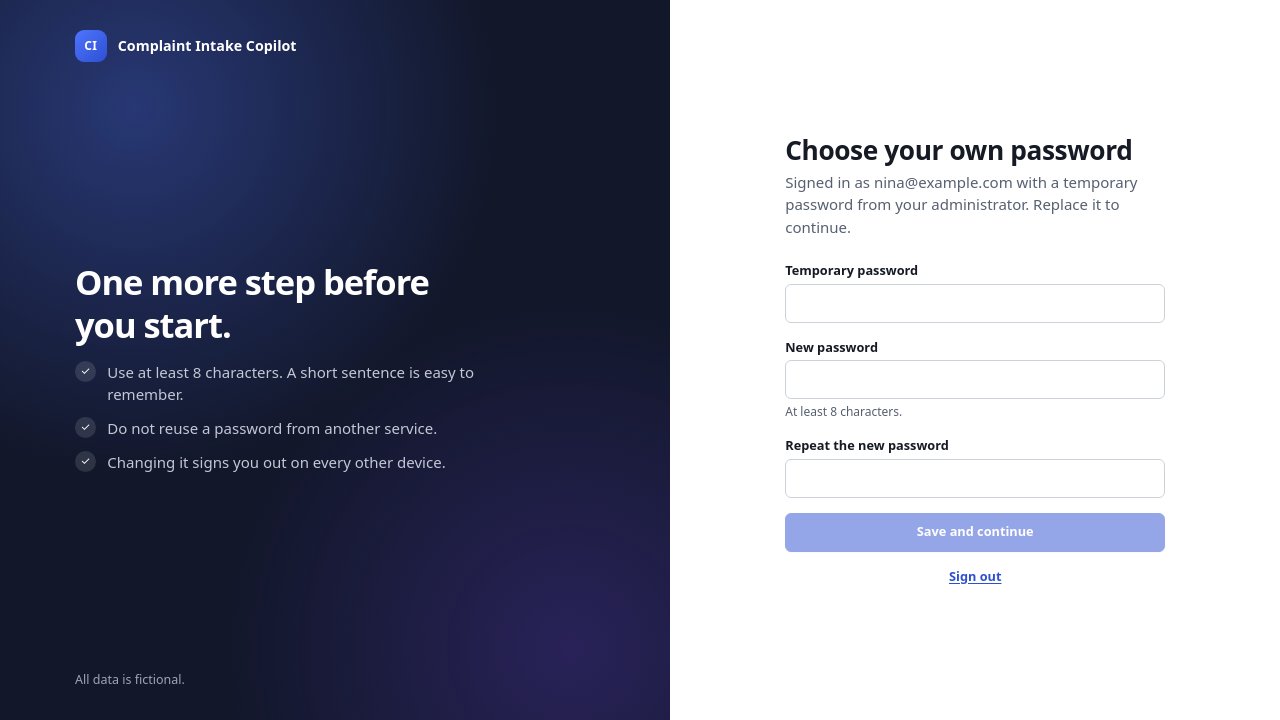
Test case: a temporary password › only saves a long enough, repeated, different password
In the password field labelled "Temporary password": point(975, 303) [785,284,1165,323], type "temporary password 1"
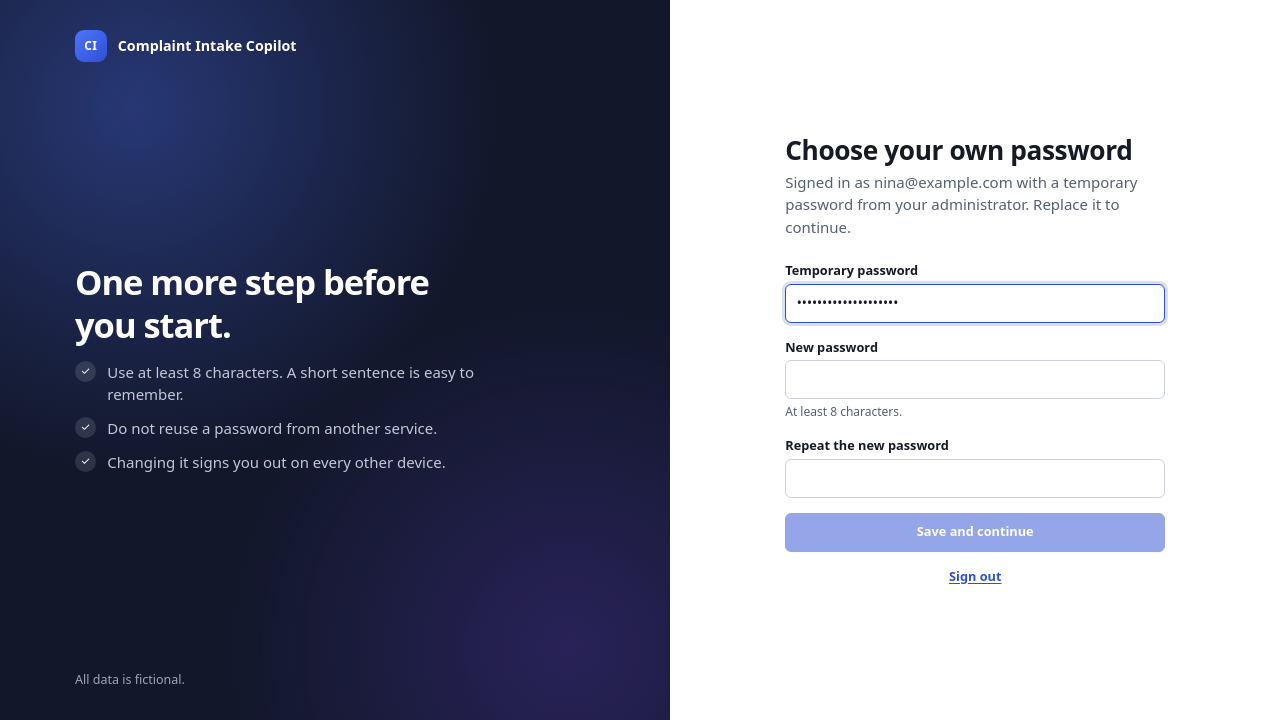
In the password field labelled "New password": point(975, 380) [785,360,1165,399], type "short"
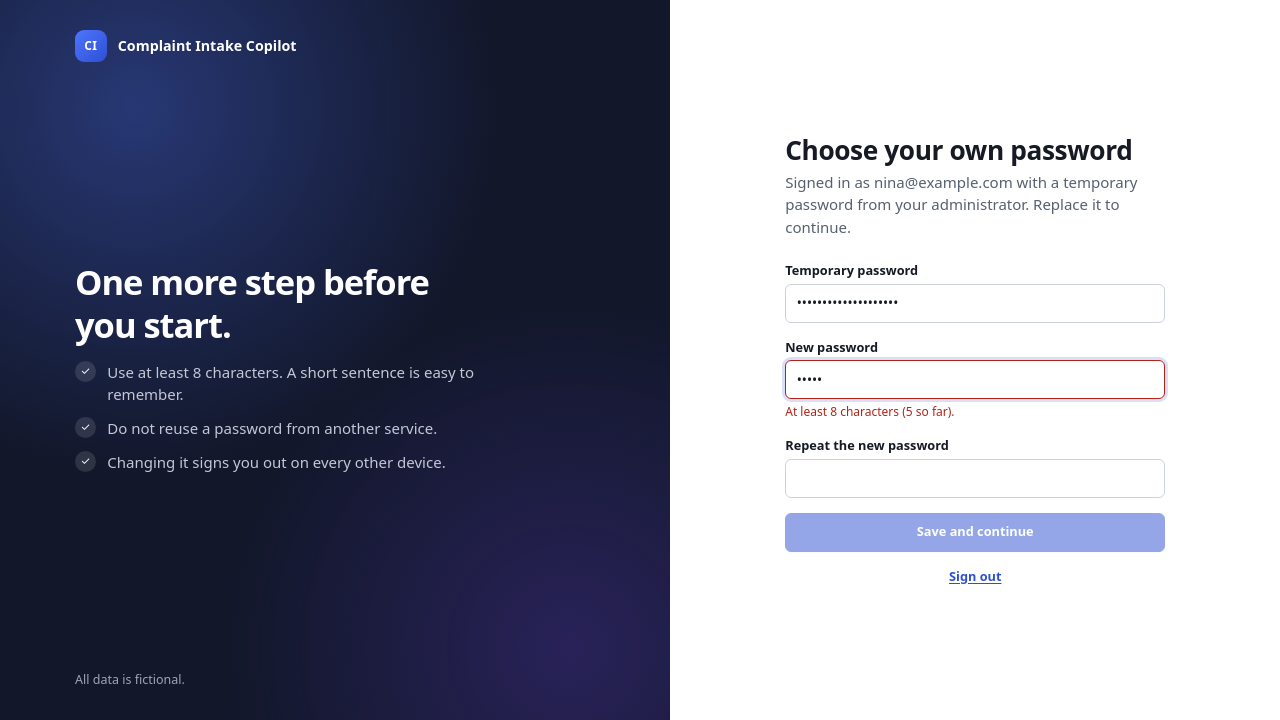
Expected: the button "Save and continue" is disabled, [785,512,1165,552]
Expected: the text "At least 8 characters (5 so far)." is shown, [785,403,954,420]
In the password field labelled "New password": point(975, 380) [785,360,1165,399], type "my own password 456"
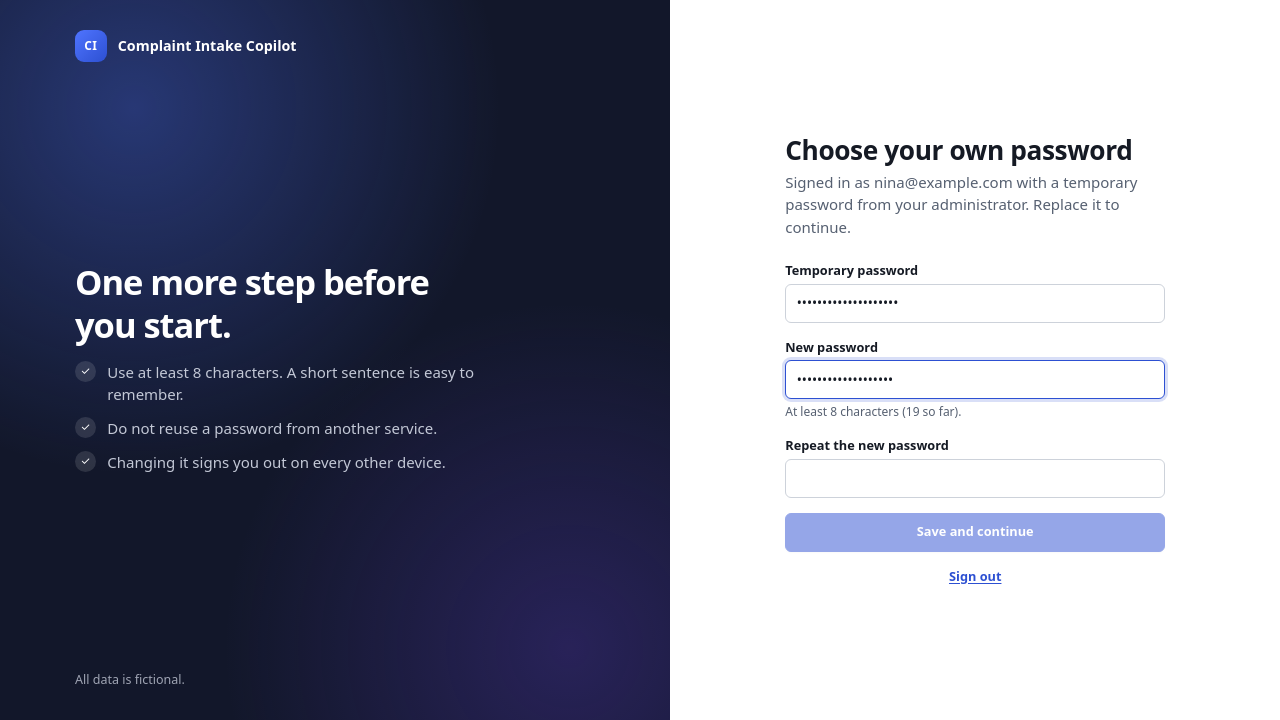
In the password field labelled "Repeat the new password": point(975, 478) [785,459,1165,498], type "something else 12"
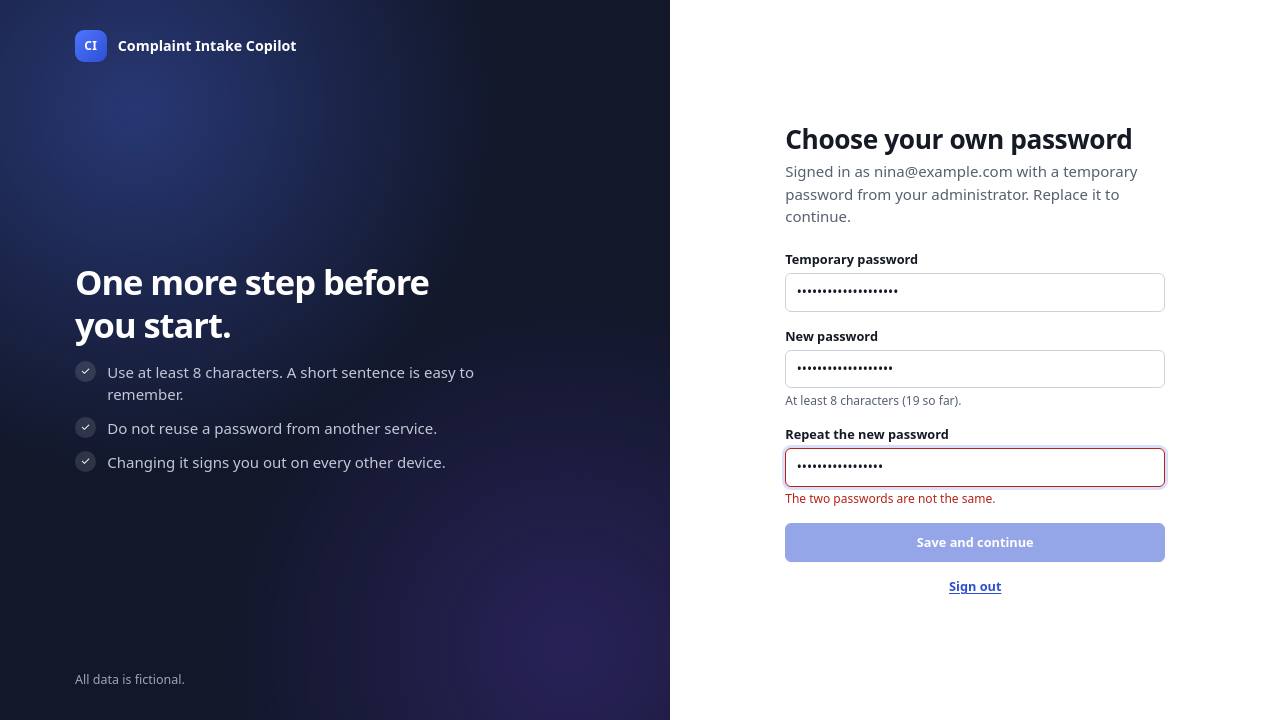
Expected: the button "Save and continue" is disabled, [785,523,1165,562]
Expected: the text "The two passwords are not the same." is shown, [785,490,995,507]
In the password field labelled "New password": point(975, 369) [785,350,1165,388], type "temporary password 1"
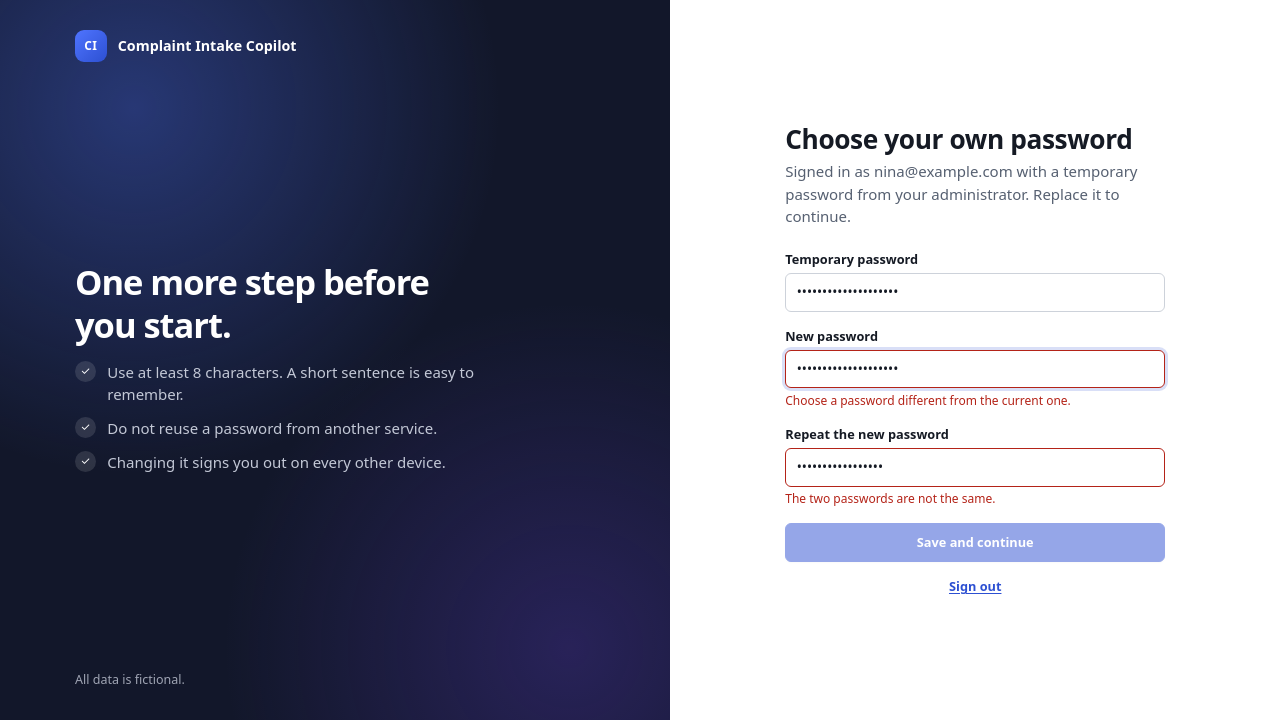
Expected: the button "Save and continue" is disabled, [785,523,1165,562]
Expected: the text "Choose a password different from the current one." is shown, [785,392,1071,409]
